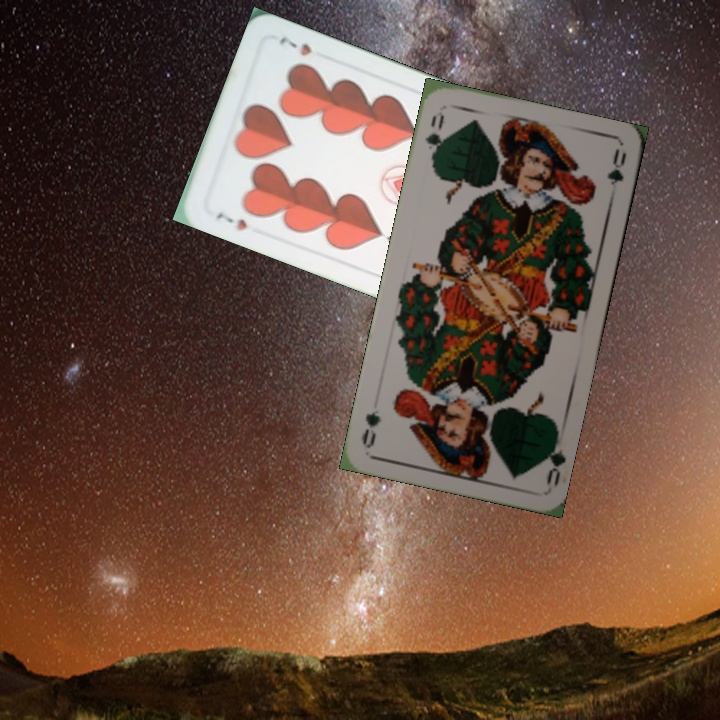GO: (537, 430, 567, 488), (421, 111, 447, 165)
H7: (212, 207, 250, 234)
